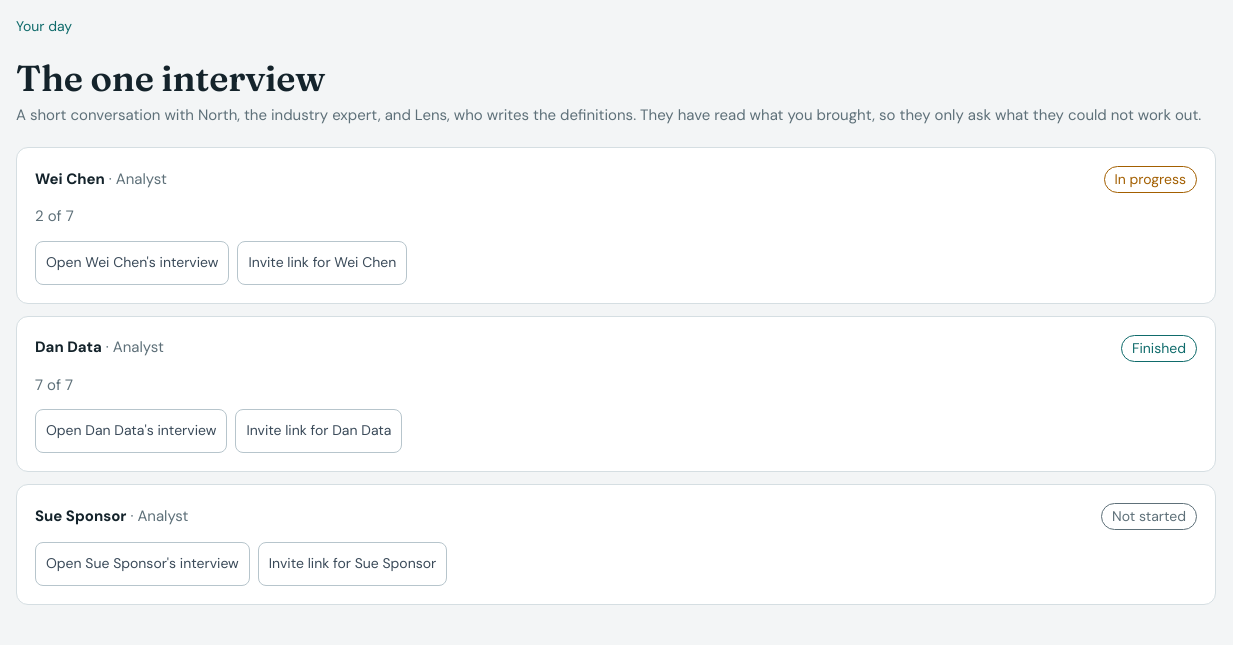
Test: The one interview: five states › populated: everyone with their status, and an invite link
The image size is (1233, 645).
Check: the text "In progress" is shown, box [1104,166,1197,193]
Check: the text "Finished" is shown, box [1121,334,1197,362]
Click the button "Invite link for Dan Data": (319, 431) [235,409,402,453]
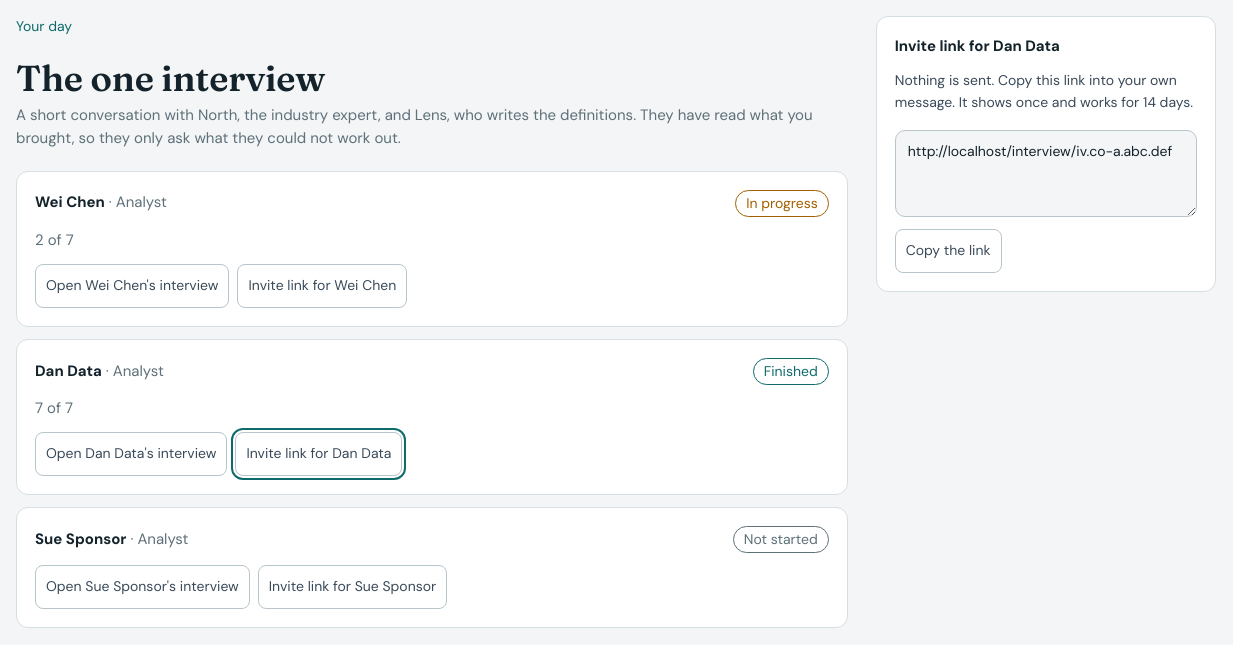
Check: the text "Nothing is sent" is shown, box [895,71,1193,111]
